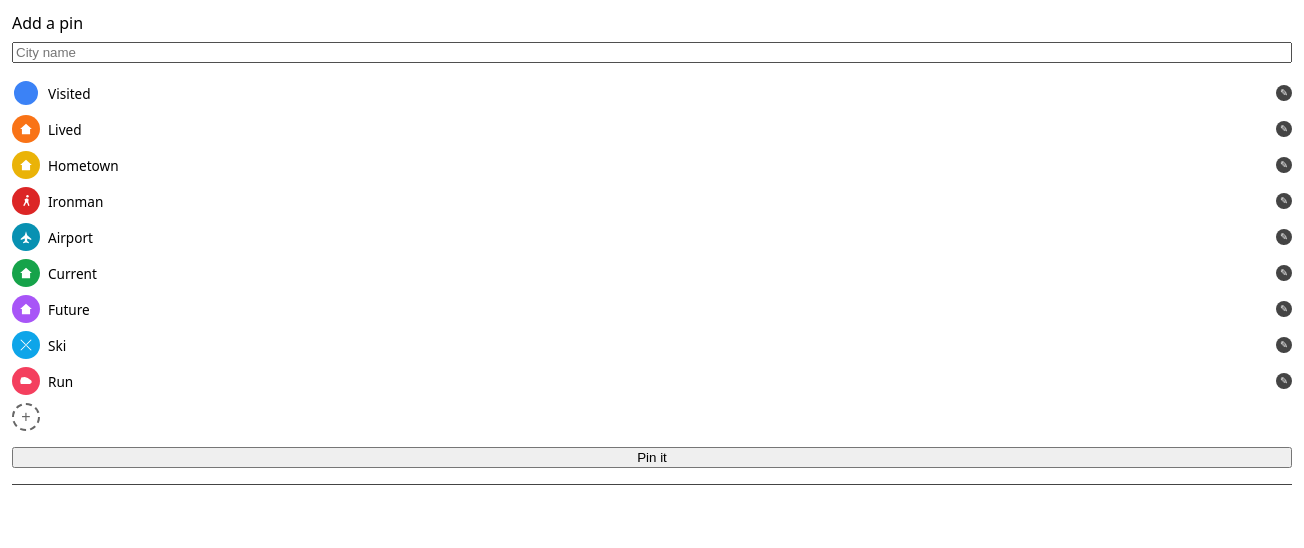
Test case: AddPin autocomplete › shows suggestions after typing and debouncing
This screenshot has width=1304, height=548.
Type "Par" into the field labelled "Add a pin" at (652, 52), box [12,42,1292,63]
Wait 300 ms
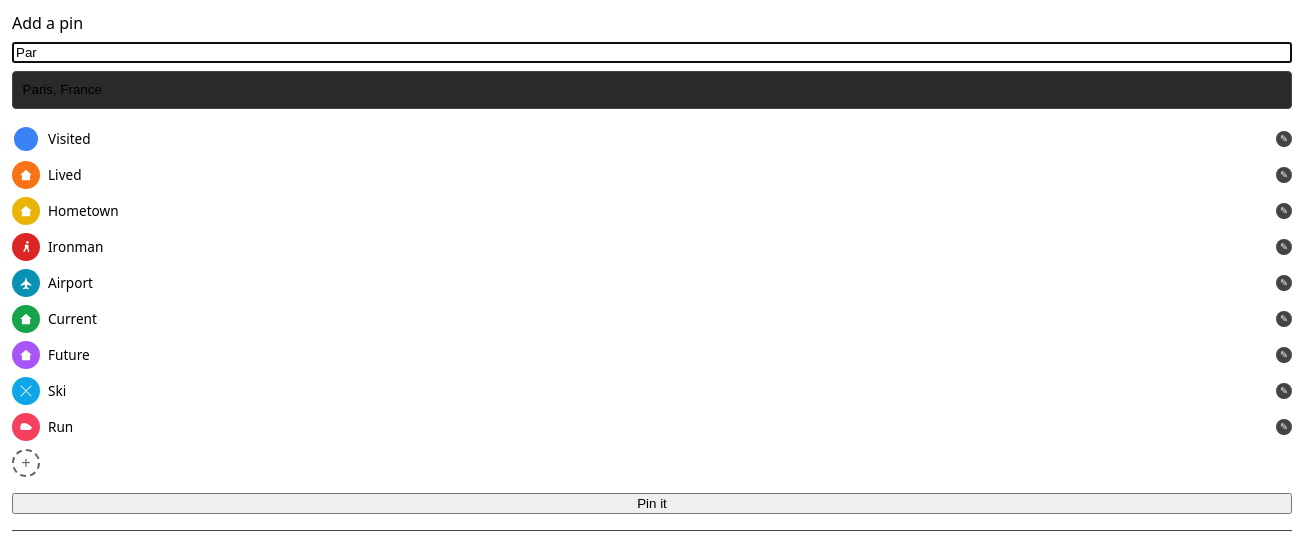
Expected: the button "Paris, France" is shown, [13,76,1291,104]
